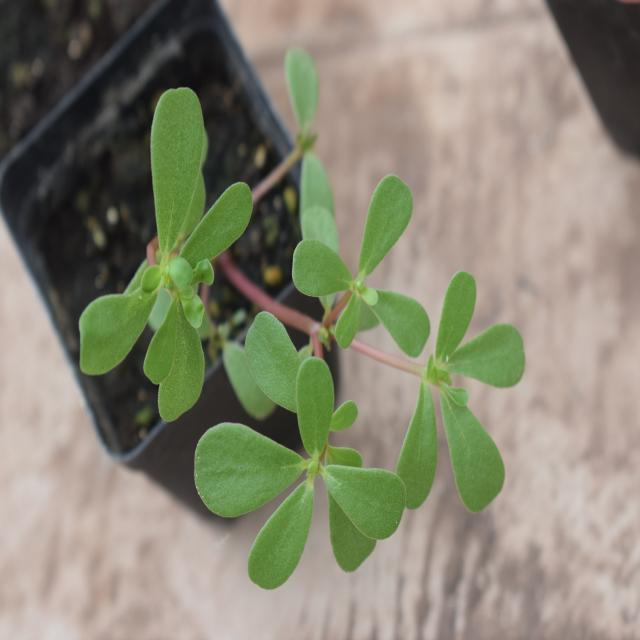purslane: (80, 104, 519, 552)
